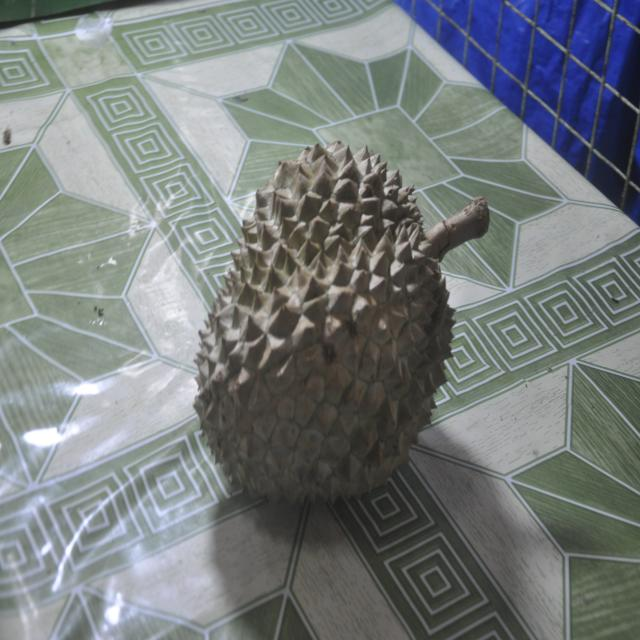mature: (196, 143, 488, 502)
